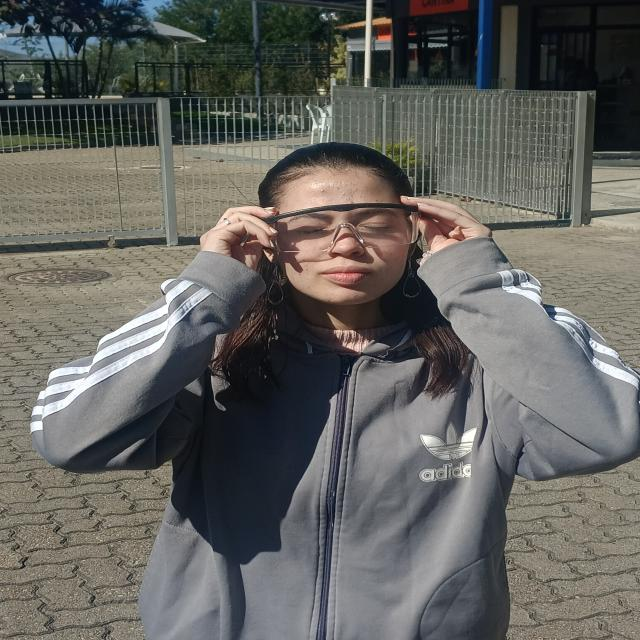oculos-epi: (266, 203, 419, 257)
